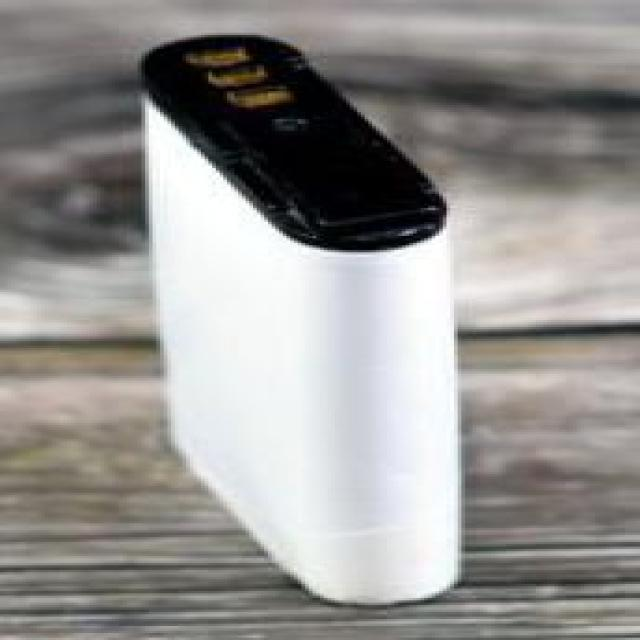electronic: (88, 2, 552, 640)
